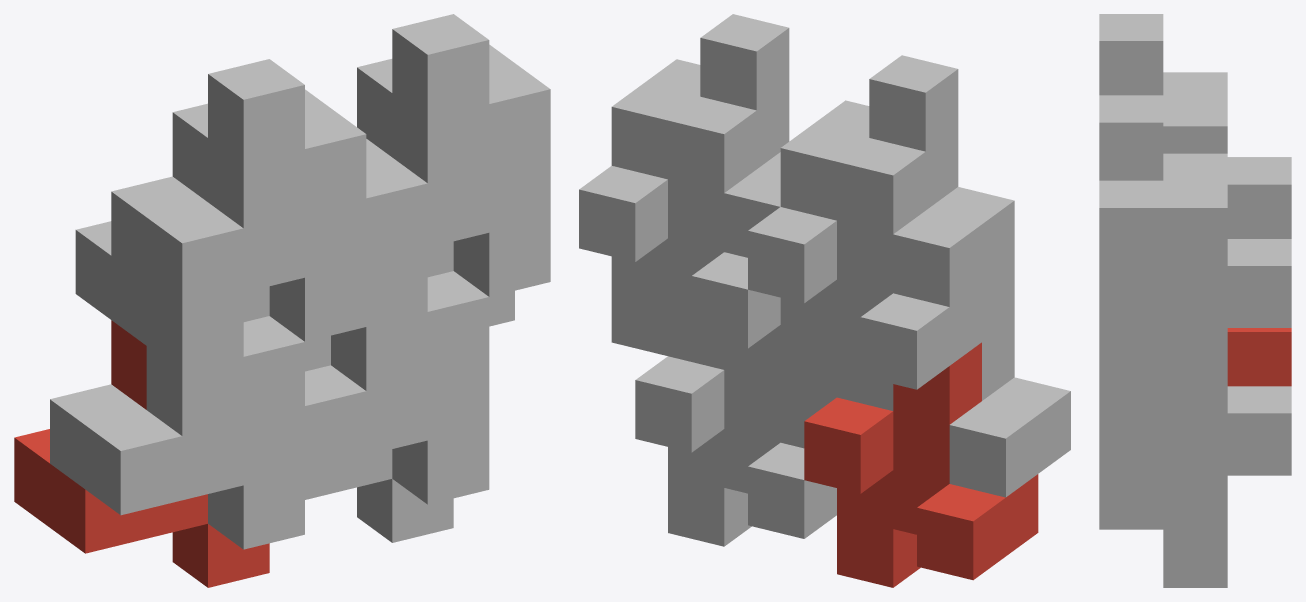
File: tiling.obj
The picture shows the model from 3 angles, left to right: view 1: azimuth 30°, elevation 25°; view 2: azimuth 150°, elevation 25°; view 3: azimuth 270°, elevation 25°; orthographic projection. The views are drawn at different scales.
Visible parts, largest first — view 1: copy_1_domain_4, copy_1_domain_2, copy_1_domain_8, copy_1_domain_6, copy_1_domain_1, copy_1_domain_3, copy_1_domain_5, copy_1_domain_7; view 2: copy_1_domain_3, copy_1_domain_1, copy_1_domain_7, copy_1_domain_5, copy_1_domain_4, copy_1_domain_8, copy_1_domain_2, copy_1_domain_6; view 3: copy_1_domain_8, copy_1_domain_7, copy_1_domain_5, copy_1_domain_6, copy_1_domain_4, copy_1_domain_3, copy_1_domain_1.
Part boxes in pixels (x1,y1,x2,y2): copy_1_domain_4: (111,59,366,341); copy_1_domain_2: (50,282,304,549); copy_1_domain_8: (366,14,550,296); copy_1_domain_6: (305,248,489,504); copy_1_domain_1: (14,320,269,587); copy_1_domain_3: (75,103,330,371); copy_1_domain_5: (305,449,453,542); copy_1_domain_7: (357,59,514,326); copy_1_domain_3: (748,138,981,397); copy_1_domain_1: (804,342,1038,587); copy_1_domain_7: (579,96,780,355); copy_1_domain_5: (635,325,836,546); copy_1_domain_4: (780,55,1014,306); copy_1_domain_8: (611,14,789,257); copy_1_domain_2: (837,259,1070,497); copy_1_domain_6: (668,297,836,448); copy_1_domain_8: (1099,95,1227,382); copy_1_domain_7: (1163,153,1291,440); copy_1_domain_5: (1163,386,1291,587); copy_1_domain_6: (1099,382,1163,529); copy_1_domain_4: (1099,14,1227,153); copy_1_domain_3: (1163,72,1291,238); copy_1_domain_1: (1227,328,1291,386).
Size of the model in its own units: 7 by 8 by 3.
